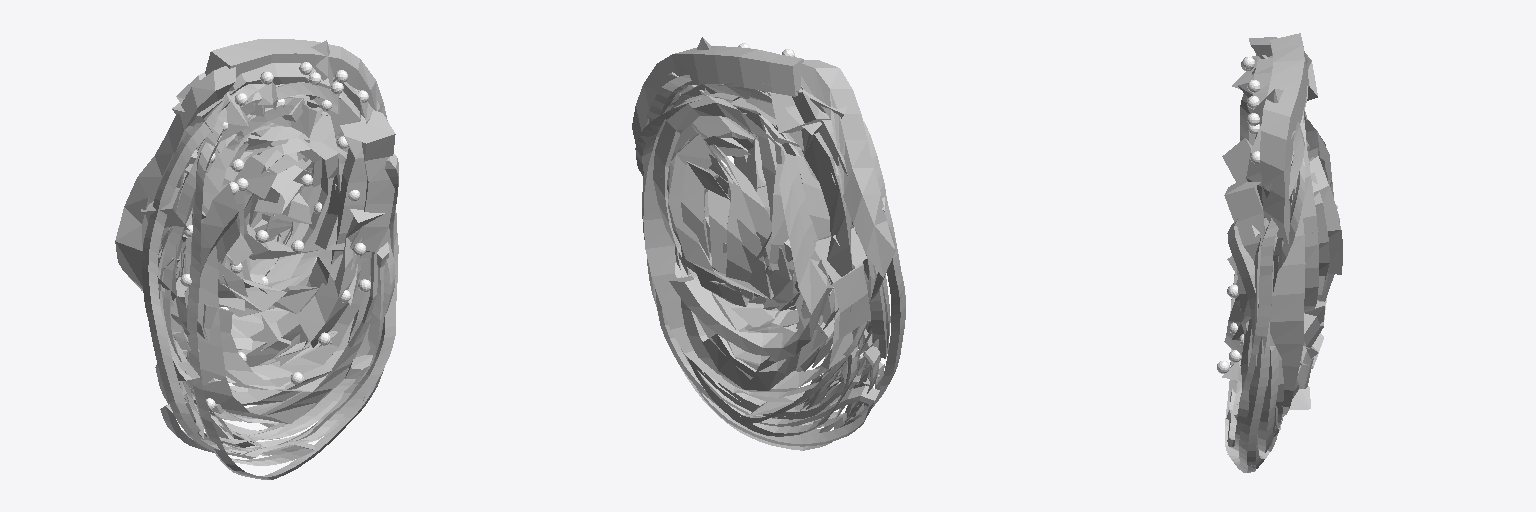
File: portal.obj
3 views of the same model, side by side, from view 1: azimuth 30°, elevation 25°; view 2: azimuth 150°, elevation 25°; view 3: azimuth 270°, elevation 25° (orthographic).
Parts seen in each view (by area): view 1: group[number redacted], group[number redacted], group[number redacted], group[number redacted], group[number redacted], group[number redacted], group[number redacted], group[number redacted], group[number redacted], group[number redacted], group[number redacted], group[number redacted] (+4 smaller); view 2: group[number redacted], group[number redacted], group[number redacted], group[number redacted], group[number redacted], group[number redacted], group[number redacted], group[number redacted], group[number redacted], group[number redacted], group[number redacted], group[number redacted] (+1 smaller); view 3: group[number redacted], group[number redacted], group[number redacted], group[number redacted], group[number redacted], group[number redacted], group[number redacted], group[number redacted], group[number redacted].
Boxes of the visible parts, x1,y1,x2,y2 form: group[number redacted]: [142, 82, 398, 465]; group[number redacted]: [178, 91, 395, 382]; group[number redacted]: [185, 97, 396, 423]; group[number redacted]: [115, 66, 235, 300]; group[number redacted]: [187, 84, 398, 479]; group[number redacted]: [205, 39, 387, 120]; group[number redacted]: [140, 40, 380, 230]; group[number redacted]: [296, 184, 384, 347]; group[number redacted]: [158, 72, 353, 391]; group[number redacted]: [234, 138, 337, 198]; group[number redacted]: [218, 262, 318, 313]; group[number redacted]: [254, 181, 311, 223]; group[number redacted]: [653, 90, 852, 391]; group[number redacted]: [635, 75, 905, 446]; group[number redacted]: [643, 82, 870, 392]; group[number redacted]: [801, 60, 895, 301]; group[number redacted]: [669, 153, 833, 361]; group[number redacted]: [632, 46, 803, 143]; group[number redacted]: [712, 293, 798, 332]; group[number redacted]: [754, 164, 792, 276]; group[number redacted]: [709, 98, 857, 409]; group[number redacted]: [668, 37, 884, 211]; group[number redacted]: [721, 137, 764, 190]; group[number redacted]: [647, 89, 865, 450]; group[number redacted]: [1222, 118, 1342, 398]; group[number redacted]: [1226, 68, 1304, 468]; group[number redacted]: [1260, 33, 1308, 245]; group[number redacted]: [1238, 53, 1317, 416]; group[number redacted]: [1225, 94, 1291, 472]; group[number redacted]: [1232, 56, 1295, 205]; group[number redacted]: [1244, 134, 1283, 422]; group[number redacted]: [1224, 256, 1243, 358]; group[number redacted]: [1303, 120, 1326, 348].
Bounding box in the file's own units: 1.39 × 2.03 × 0.567.